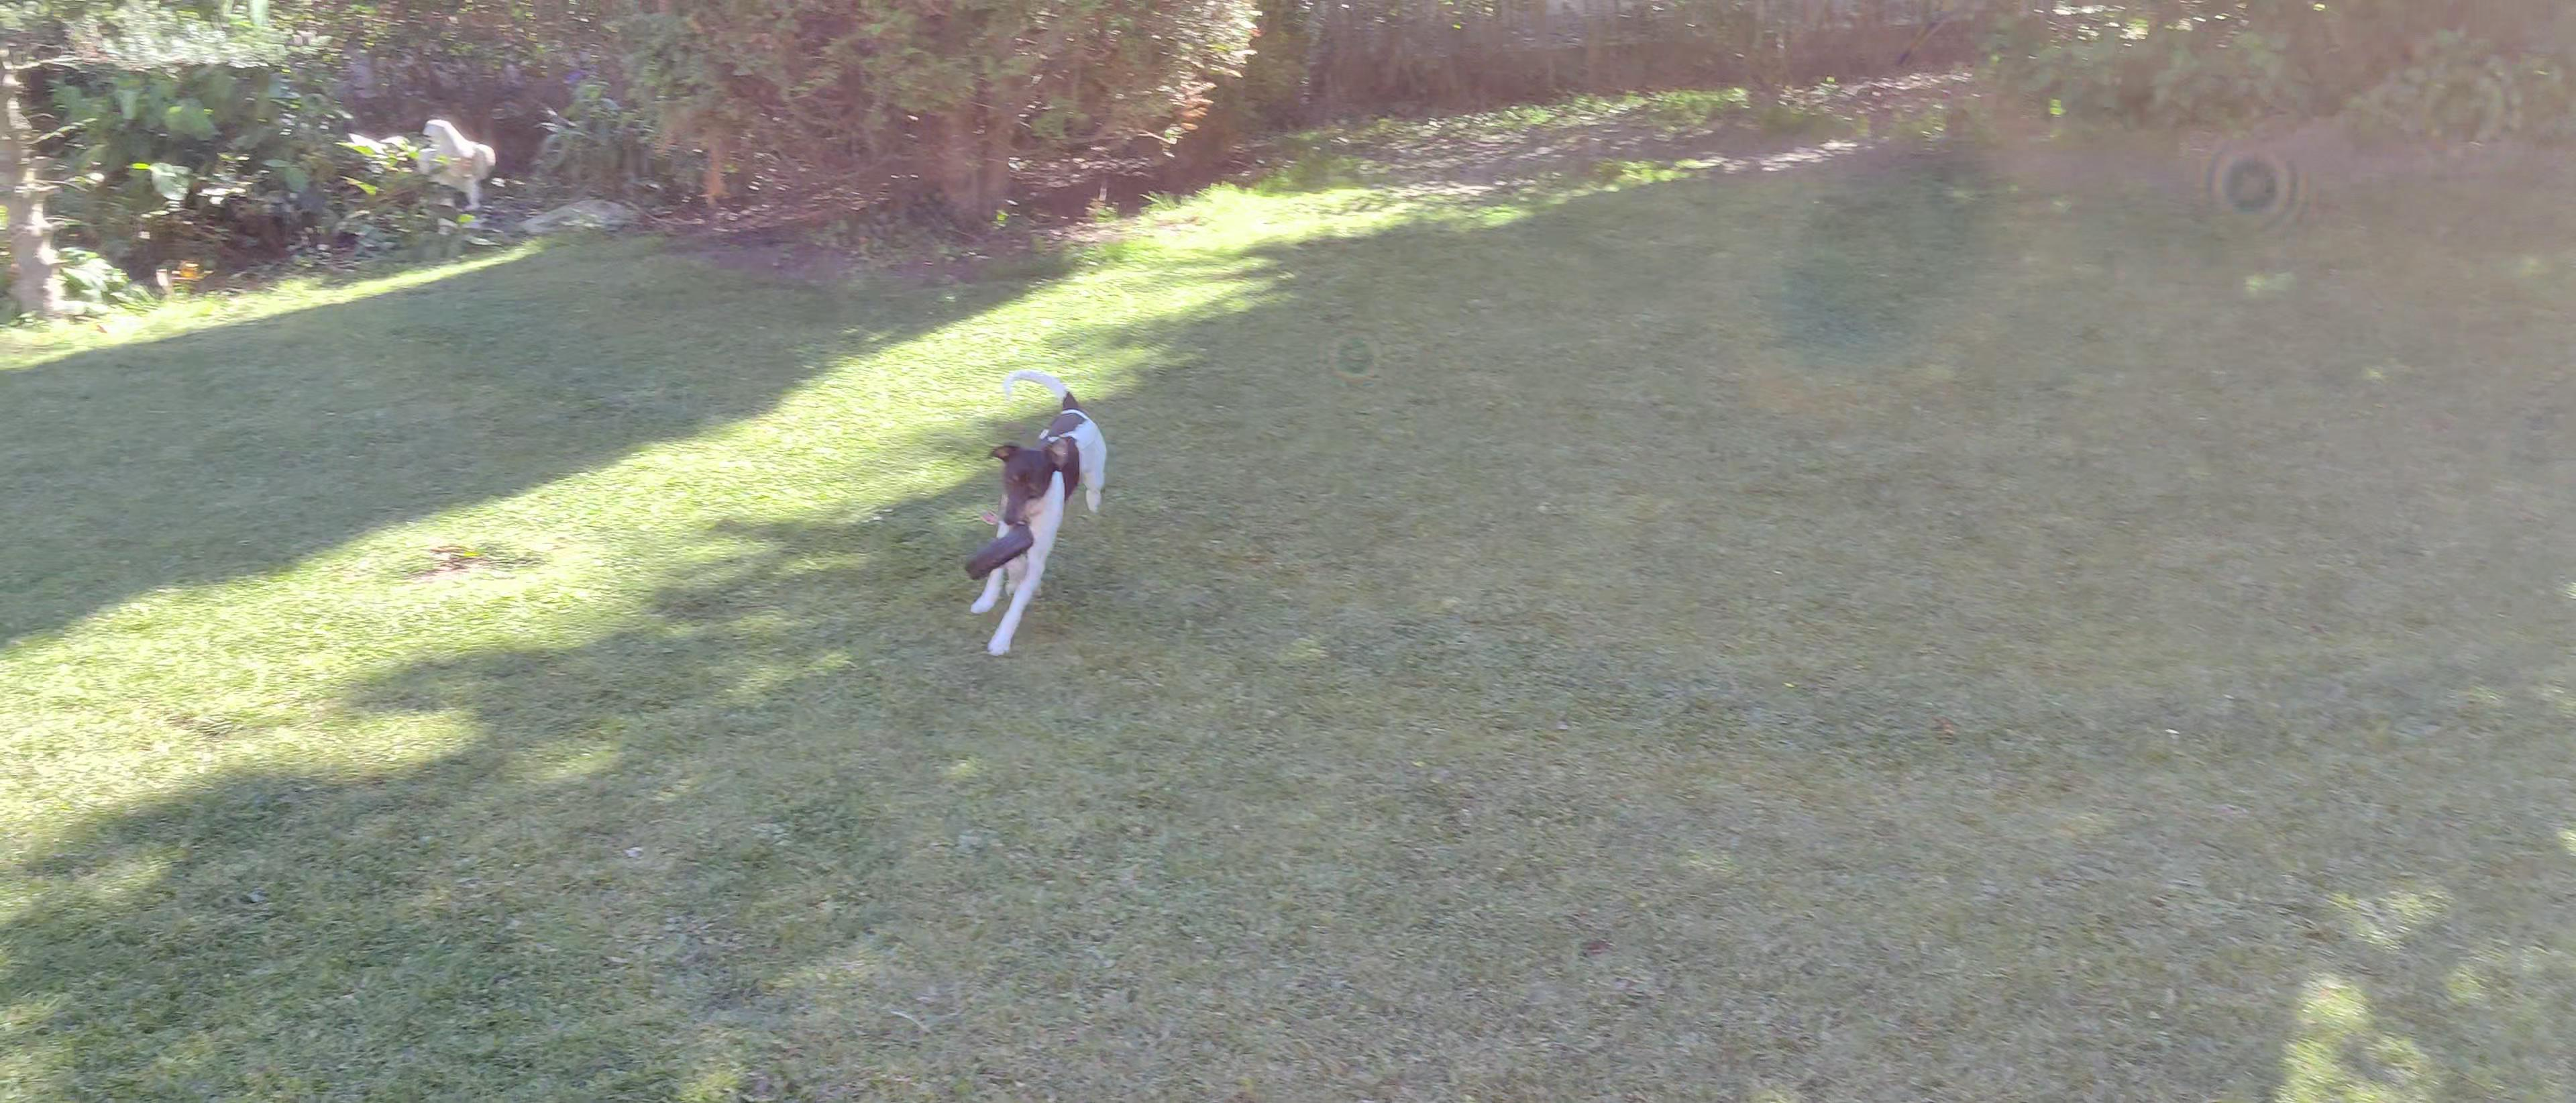Dog: (963, 365, 1111, 658)
